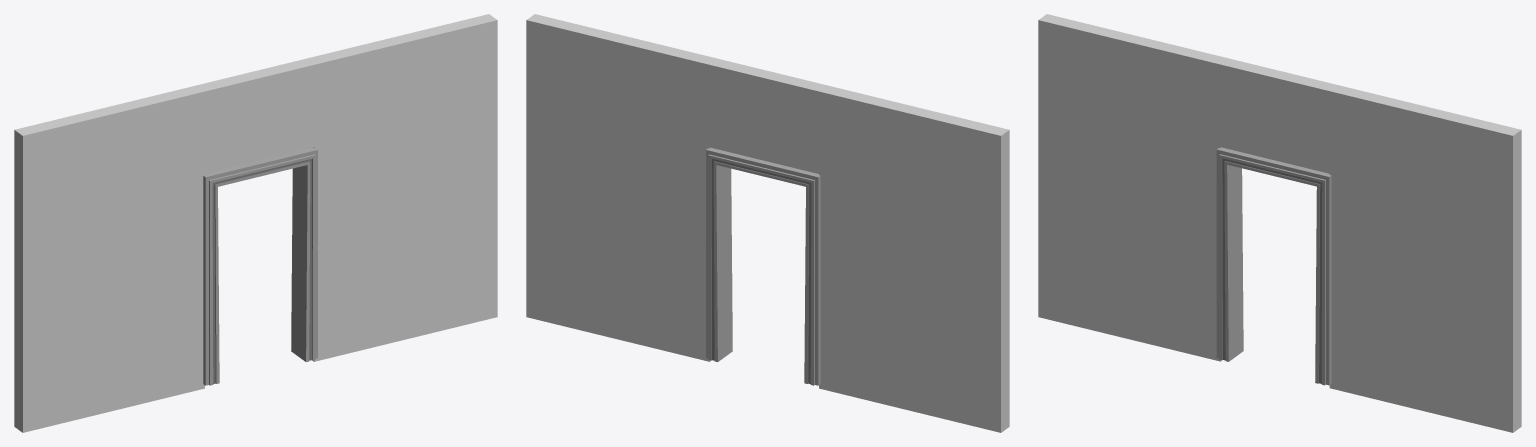
The model's file is wall_door.glb.
3 views of the same model, side by side, from view 1: azimuth 30°, elevation 25°; view 2: azimuth 150°, elevation 25°; view 3: azimuth 330°, elevation 25° (orthographic).
Visible parts, largest first — view 1: WallDoor, Door Frame 2; view 2: WallDoor, Door Frame 2; view 3: WallDoor, Door Frame 2.
Part boxes in pixels (x1,y1,x2,y2): WallDoor: (14,14,497,432); Door Frame 2: (203,148,317,385); WallDoor: (526,14,1009,432); Door Frame 2: (706,148,820,385); WallDoor: (1038,14,1521,432); Door Frame 2: (1216,147,1331,385).
Bounding box in the file's own units: 5.1 × 3.05 × 0.2769.
1 material, 1 textured.
